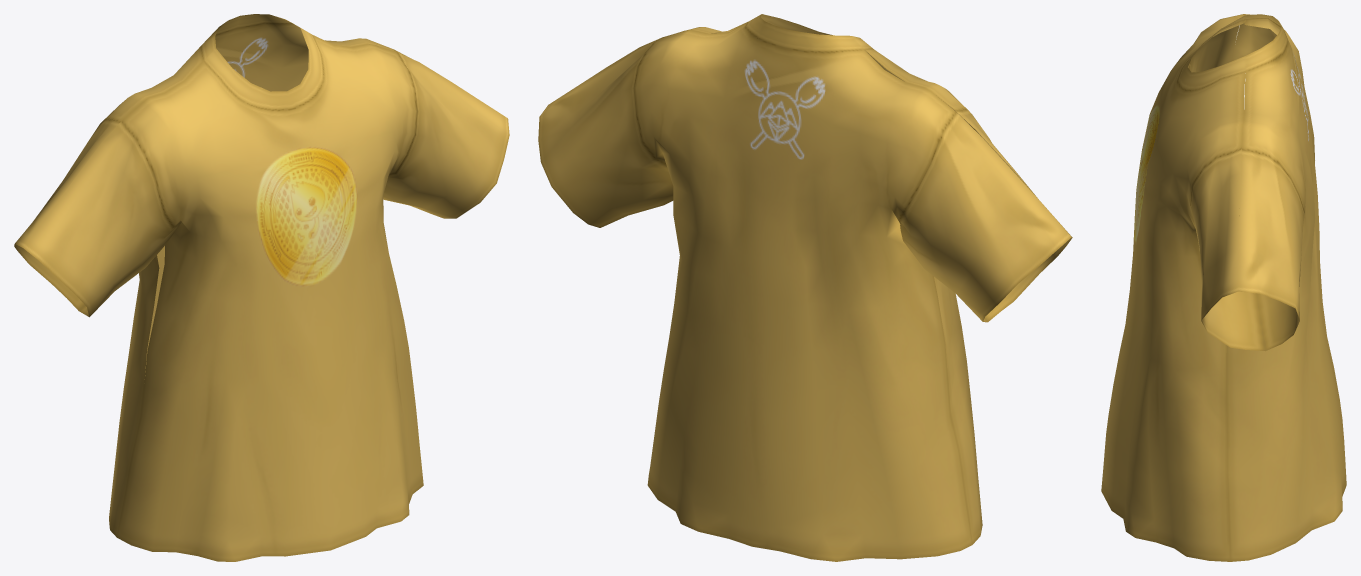
File: 93_tshirt_a.glb
3 renders of one model, left to right at view 1: azimuth 30°, elevation 25°; view 2: azimuth 150°, elevation 25°; view 3: azimuth 270°, elevation 25°, orthographic. The views are drawn at different scales.
Visible parts, largest first — view 1: tshirt_apose; view 2: tshirt_apose; view 3: tshirt_apose.
Part boxes in pixels (left/top/right/bottom): tshirt_apose: left=14, top=14, right=509, bottom=561; tshirt_apose: left=538, top=14, right=1072, bottom=561; tshirt_apose: left=1101, top=14, right=1346, bottom=561.
Bounding box in the file's own units: 0.7679 × 0.704 × 0.3368.
Materials: 1 (1 with a texture image).
